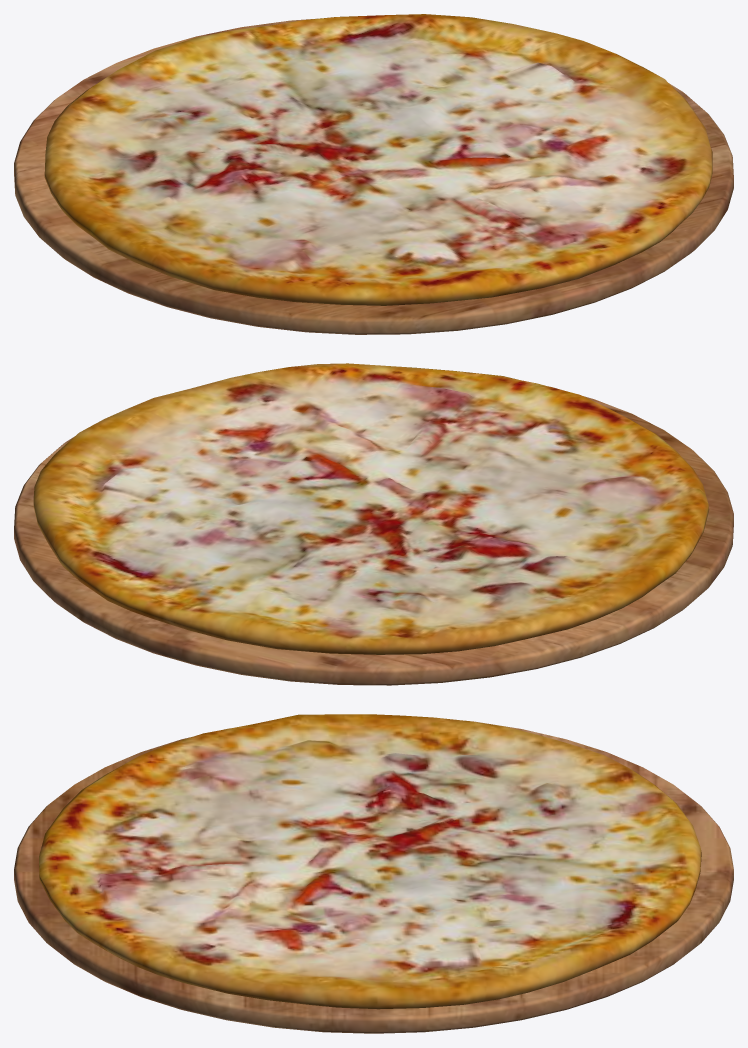
File: pizza.glb
The picture shows the model from 3 angles, top to bottom: view 1: azimuth 30°, elevation 25°; view 2: azimuth 150°, elevation 25°; view 3: azimuth 270°, elevation 25°; orthographic projection.
Parts seen in each view (by area): view 1: Pizza_Pizza_0; view 2: Pizza_Pizza_0; view 3: Pizza_Pizza_0.
Part boxes in pixels (x1,y1,x2,y2): Pizza_Pizza_0: (14, 14, 733, 334); Pizza_Pizza_0: (14, 363, 733, 685); Pizza_Pizza_0: (14, 714, 733, 1033).
Bounding box in the file's own units: 0.4184 × 0.0225 × 0.4184.
2 materials, 2 textured.
